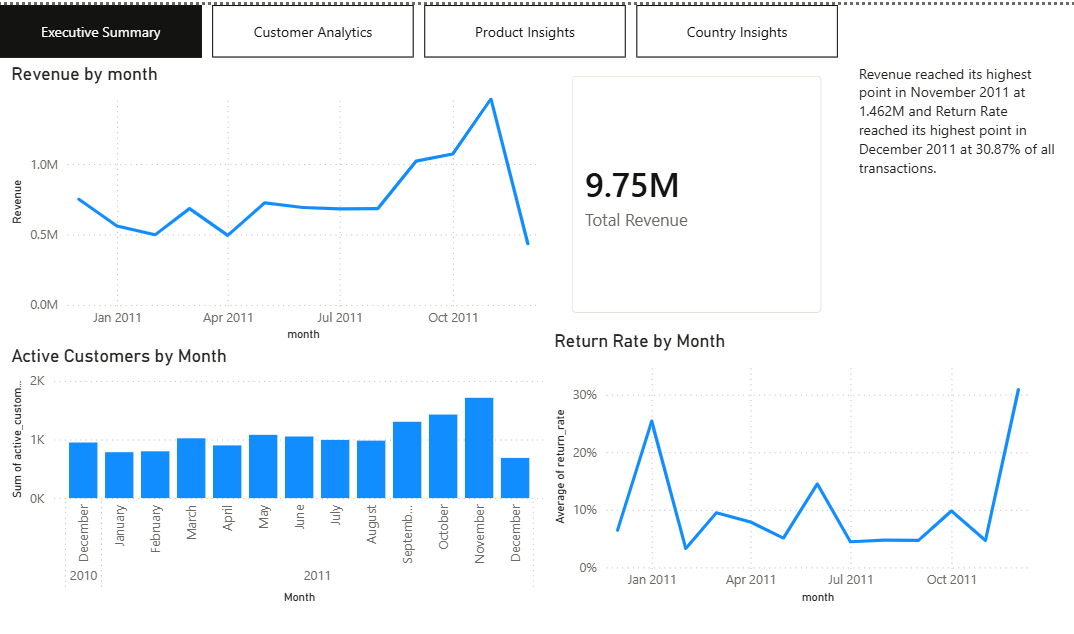

This screenshot's page, from the dashboard's own definition file:
{"tool":"powerbi","page":{"name":"Executive Summary","canvas":[1280,720],"ordinal":0},"visuals":[{"type":"cardVisual","fields":{"Data":["Sum(Total Revenue.total_revenue)"]},"box":[527.1,50,272.9,260],"z":0},{"type":"lineChart","fields":{"Y":["Sum(Monthly Revenue.revenue)"],"Category":["Monthly Revenue.month"]},"box":[5.7,55.7,525.7,268.6],"z":1000},{"type":"clusteredColumnChart","title":"Active Customers by Month","fields":{"Y":["Sum(Monthly Average Customers.active_customers)"],"Category":["Monthly Average Customers.month.Variation.Date Hierarchy.Year","Monthly Average Customers.month.Variation.Date Hierarchy.Month"]},"box":[5.7,324.3,517.1,250],"z":2000},{"type":"lineChart","title":"Return Rate by Month","fields":{"Category":["public monthly_sales_returns.month"],"Y":["Avg(public monthly_sales_returns.return_rate)"]},"box":[522.9,310,475.7,264.3],"z":3000},{"type":"pageNavigator","box":[0,0,800,50],"z":4000},{"type":"pageNavigator","box":[0,0,800,50],"z":5000},{"type":"textbox","box":[812.9,50,198.6,260],"z":5002}]}

Visuals, with their boxes on the page's 1280x720 design canvas (x1, y1, x2, y2). These are canvas units, not pixel positions in the 1074x634 screenshot, which may show the page scaled, cropped or inside an application window:
cardVisual - Sum(Total Revenue.total_revenue): [527, 50, 800, 310]
lineChart - Sum(Monthly Revenue.revenue) x Monthly Revenue.month: [6, 56, 531, 324]
"Active Customers by Month" clusteredColumnChart: [6, 324, 523, 574]
"Return Rate by Month" lineChart: [523, 310, 999, 574]
pageNavigator: [0, 0, 800, 50]
pageNavigator: [0, 0, 800, 50]
textbox: [813, 50, 1012, 310]
